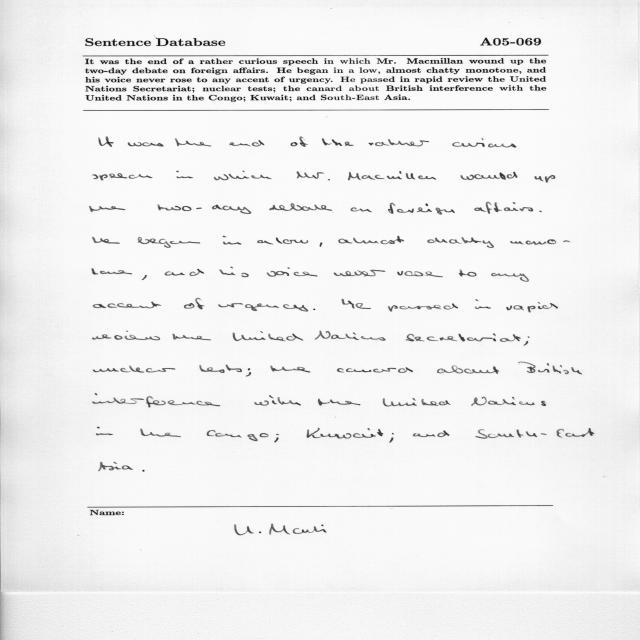word: (93, 394, 220, 408), (406, 333, 528, 346), (476, 428, 595, 439), (157, 204, 251, 214), (307, 428, 383, 439), (218, 303, 308, 312), (388, 203, 455, 215), (348, 171, 436, 180), (518, 362, 582, 374), (427, 237, 494, 248), (474, 202, 533, 214), (233, 332, 303, 342), (315, 331, 385, 341), (138, 237, 200, 248), (471, 397, 546, 406), (207, 430, 268, 441), (453, 138, 517, 148), (388, 303, 458, 312), (93, 331, 160, 340), (383, 398, 450, 407), (93, 366, 175, 373), (437, 365, 499, 374), (338, 236, 404, 244), (214, 171, 272, 180), (506, 302, 558, 312), (254, 395, 301, 406), (269, 203, 332, 211), (267, 267, 317, 277), (93, 173, 153, 181), (461, 172, 518, 180), (337, 367, 413, 373), (368, 139, 429, 146), (93, 302, 161, 308), (199, 364, 242, 373), (510, 239, 570, 245), (491, 273, 529, 282), (140, 429, 181, 437), (334, 270, 386, 276), (99, 462, 133, 471), (219, 267, 249, 277), (297, 172, 330, 181), (318, 399, 360, 406), (342, 299, 371, 309), (175, 139, 211, 147), (270, 366, 311, 373), (92, 268, 132, 275), (397, 271, 443, 277), (165, 269, 204, 276), (322, 138, 354, 146), (230, 140, 265, 147), (172, 334, 211, 340), (184, 298, 205, 309), (90, 206, 126, 212), (413, 431, 449, 437), (92, 237, 120, 244), (276, 238, 308, 244), (290, 137, 308, 147), (128, 142, 163, 147), (535, 175, 556, 183), (475, 299, 491, 309), (223, 236, 241, 244), (459, 269, 477, 277), (99, 137, 113, 147), (96, 427, 113, 435), (176, 171, 193, 178), (351, 208, 372, 213), (257, 240, 273, 244), (389, 433, 394, 443), (246, 368, 251, 377), (274, 434, 279, 443), (142, 275, 147, 280), (320, 242, 323, 247), (142, 470, 145, 472), (528, 336, 530, 338), (539, 211, 542, 212), (313, 309, 315, 310)
